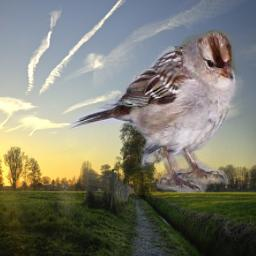Sparrow: (69, 30, 241, 193)
